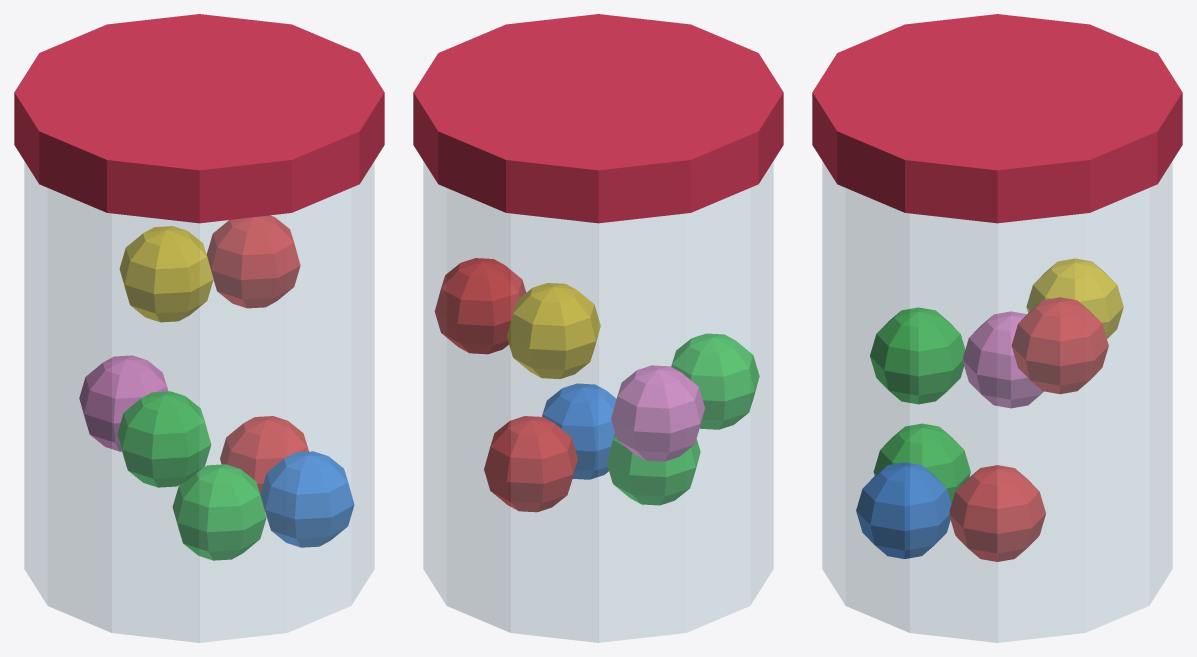
Rendered from candy_jar.glb.
3 views of the same model, side by side, from view 1: azimuth 30°, elevation 25°; view 2: azimuth 150°, elevation 25°; view 3: azimuth 270°, elevation 25° (orthographic).
Parts seen in each view (by area): view 1: jar_dental_glass, lid_jar_lid, candy; view 2: jar_dental_glass, lid_jar_lid, candy; view 3: jar_dental_glass, lid_jar_lid, candy.
Boxes of the visible parts, bbox=[...] form: jar_dental_glass: bbox=[24, 161, 374, 642]; lid_jar_lid: bbox=[14, 14, 384, 223]; candy: bbox=[79, 215, 354, 560]; jar_dental_glass: bbox=[423, 161, 773, 642]; lid_jar_lid: bbox=[413, 14, 783, 223]; candy: bbox=[434, 258, 759, 512]; jar_dental_glass: bbox=[822, 161, 1172, 642]; lid_jar_lid: bbox=[812, 14, 1182, 223]; candy: bbox=[856, 258, 1123, 561].
Bounding box in the file's own units: 0.19 × 0.27 × 0.19.
